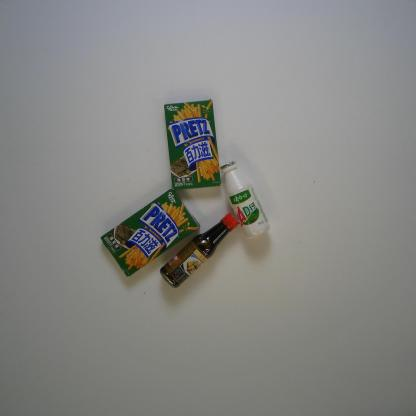Dessert: (99, 187, 201, 278), (163, 98, 222, 191)
Milk: (220, 160, 270, 240)
Seasoner: (159, 211, 241, 288)
